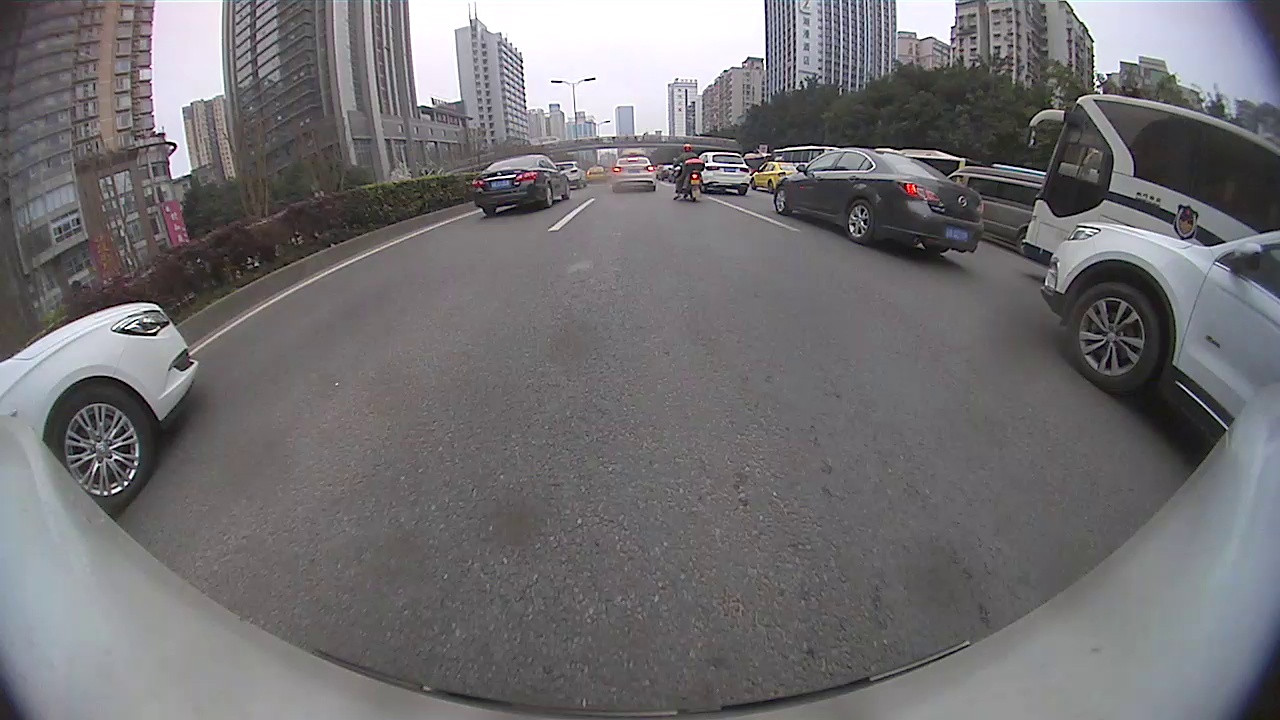bus: (1028, 91, 1277, 252), (897, 149, 978, 183)
car: (1040, 219, 1279, 440), (1, 304, 200, 518), (773, 145, 981, 256), (944, 164, 1050, 254), (470, 151, 570, 217), (703, 153, 754, 197), (612, 157, 657, 192)
front: (48, 381, 161, 513), (1065, 280, 1163, 396), (774, 186, 789, 218)
rear: (844, 199, 877, 242), (545, 183, 555, 208)
rider: (674, 143, 704, 202)
